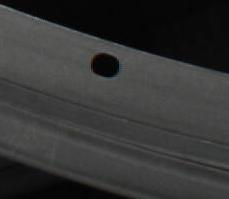holes: (89, 51, 121, 79)
